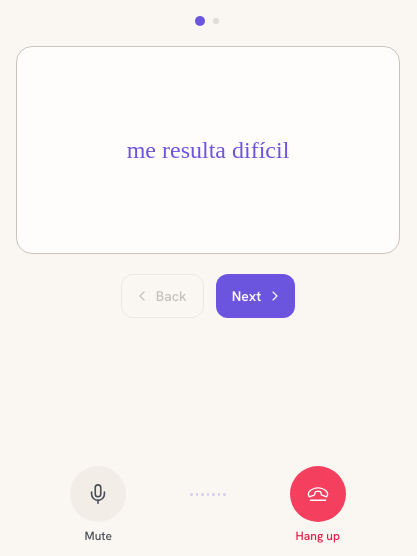
LessonClient (Study mode) › going back from card 2 returns to card 1
Expected: the text "me resulta difícil" is shown, 127,136 -> 289,162
Click the button with test id "advance-card": point(255, 296) 216,274 -> 295,318
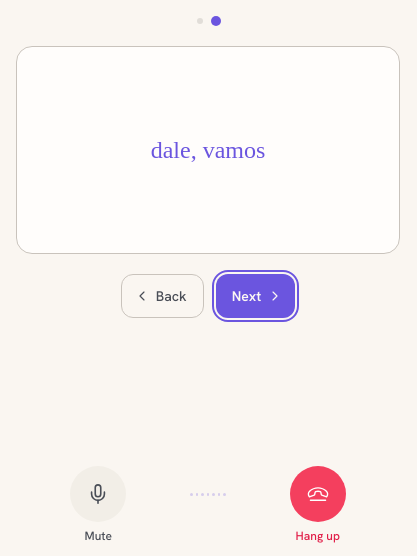
Now the text "dale, vamos" is shown, box 151,136 -> 265,162
Click the button with test id "go-back-card": point(162, 296) 121,274 -> 204,318
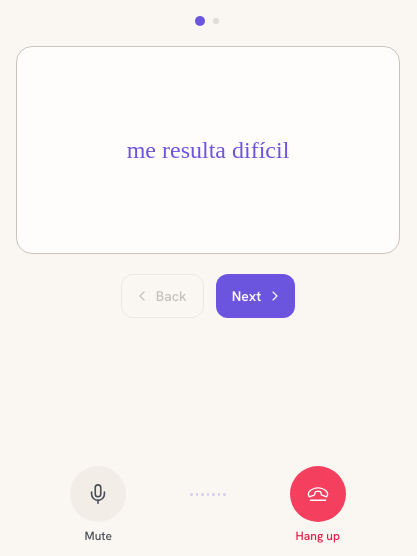
Now the text "me resulta difícil" is shown, box 127,136 -> 289,162
